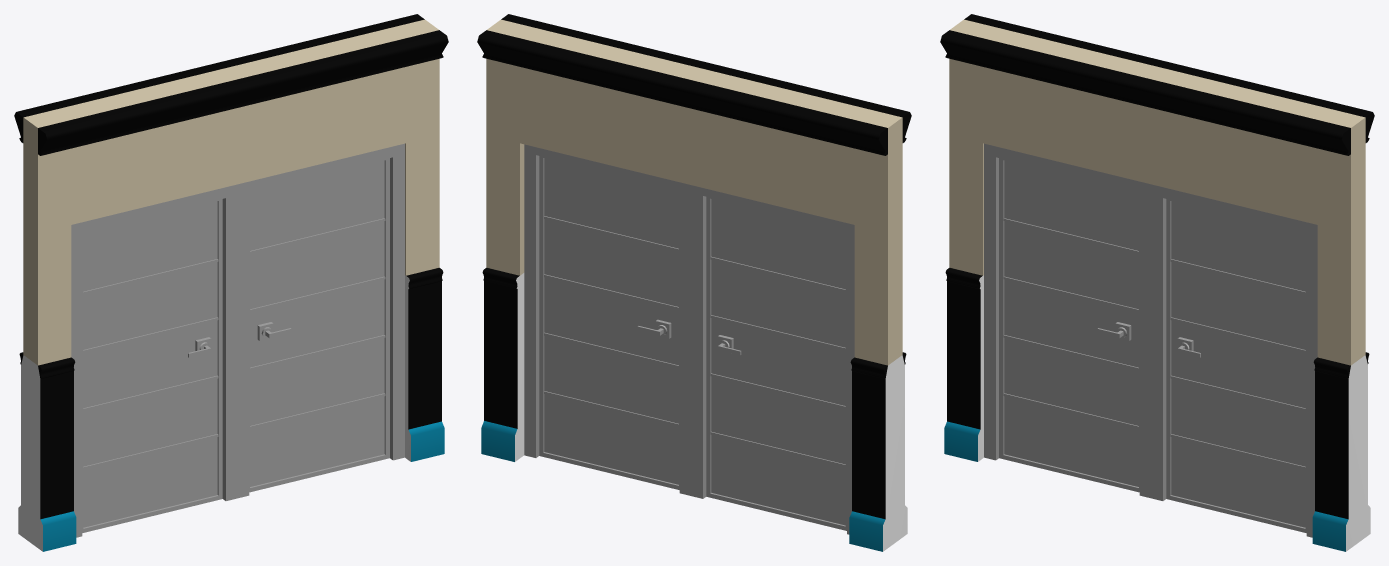
File: Classic_WallDoubleDoors_01_Snaps001.fbx
3 views of the same model, side by side, from view 1: azimuth 30°, elevation 25°; view 2: azimuth 150°, elevation 25°; view 3: azimuth 330°, elevation 25° (orthographic).
Parts seen in each view (by area): view 1: Classic_WallDoubleDoors_01_02_LOD00, Classic_WallDoubleDoors_01_01_LOD00; view 2: Classic_WallDoubleDoors_01_02_LOD00, Classic_WallDoubleDoors_01_01_LOD00; view 3: Classic_WallDoubleDoors_01_02_LOD00, Classic_WallDoubleDoors_01_01_LOD00.
Boxes of the visible parts, <box> form: Classic_WallDoubleDoors_01_02_LOD00: <box>71,143,404,537</box>; Classic_WallDoubleDoors_01_01_LOD00: <box>14,14,448,551</box>; Classic_WallDoubleDoors_01_02_LOD00: <box>524,144,854,534</box>; Classic_WallDoubleDoors_01_01_LOD00: <box>477,14,911,551</box>; Classic_WallDoubleDoors_01_02_LOD00: <box>984,143,1317,537</box>; Classic_WallDoubleDoors_01_01_LOD00: <box>940,14,1374,551</box>.
Size of what is drawn, in the model's own units: 300 by 300 by 42.83.
